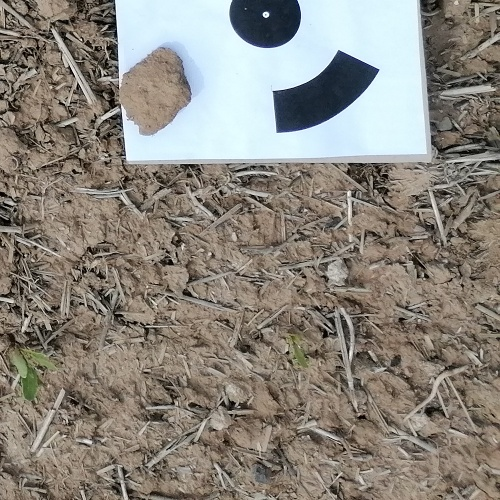beet: (11, 339, 57, 398), (284, 329, 314, 372)
